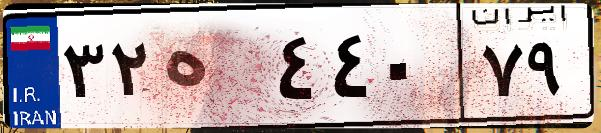0: (385, 28, 445, 110)
2: (110, 28, 158, 98)
3: (57, 26, 110, 100)
4: (270, 28, 330, 110), (330, 28, 385, 110)
7: (475, 38, 525, 113)
9: (525, 38, 570, 115)
ه: (158, 20, 270, 120)
